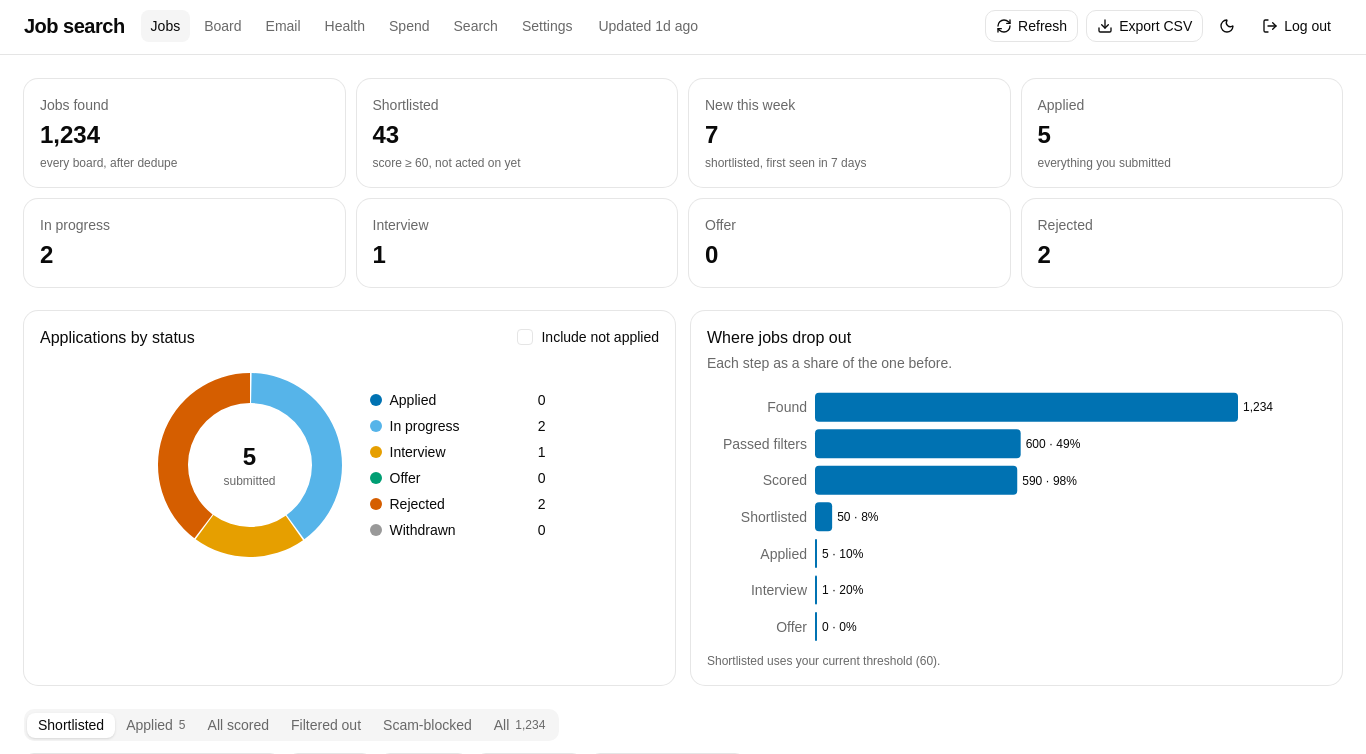
Test: the board page › is reached from the header and shows every column with its true total
Click the link "Board": x=223, y=26 [204,18,242,34]
(page scrolled)
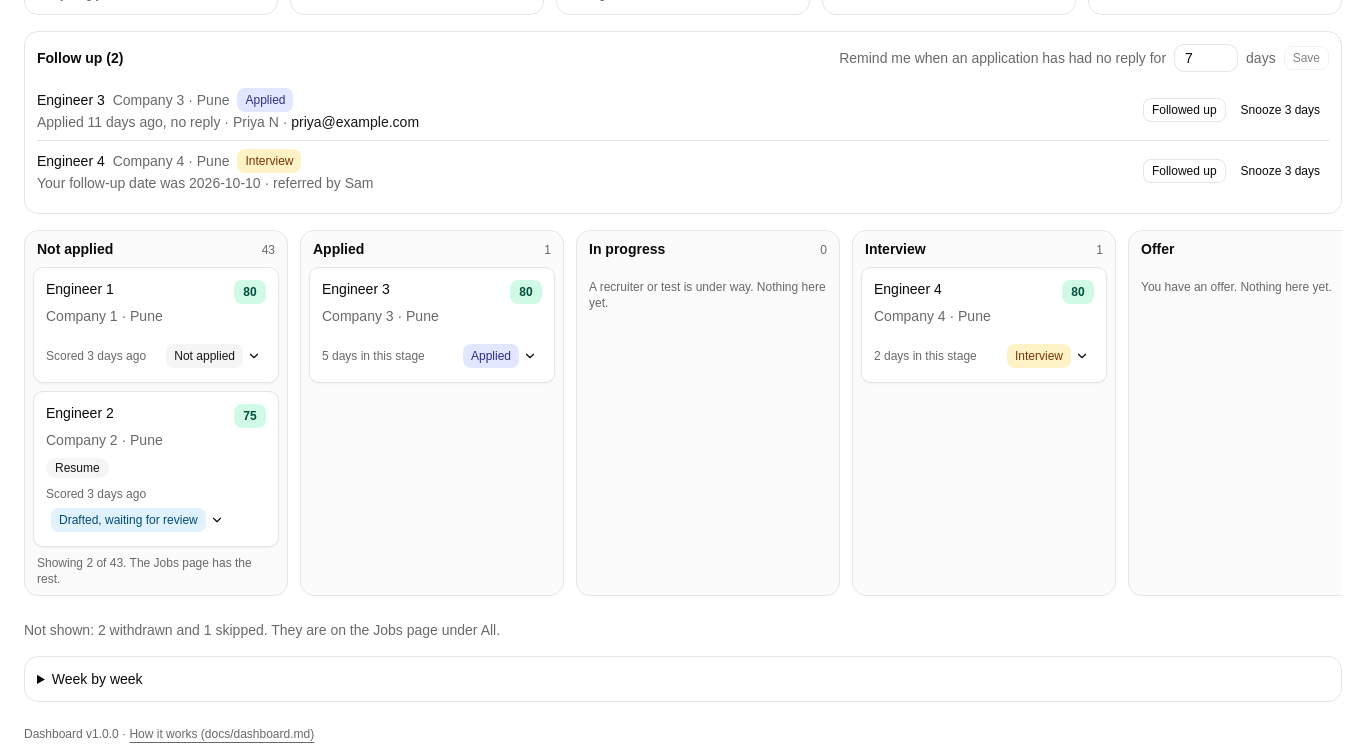
Result: the text "Showing 2 of 43. The Jobs page has the rest." is shown at [33,555,279,587]
Result: the button "Engineer 4" in the row of "You have an offer" is shown at [874,280,1054,299]
Result: the text "You have an offer. Nothing here yet." is shown at [1141,280,1332,294]
